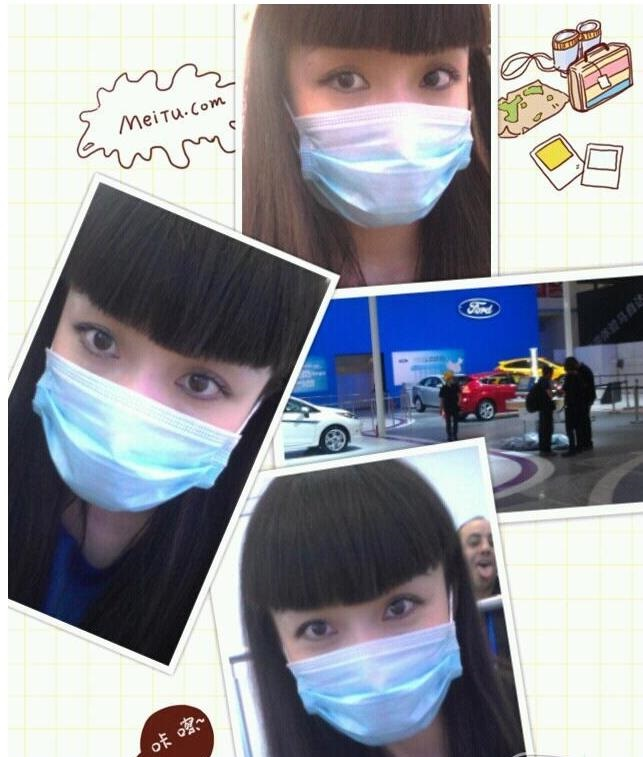face: (460, 520, 498, 581)
face_mask: (30, 243, 244, 515), (292, 33, 470, 229), (289, 542, 458, 747)
